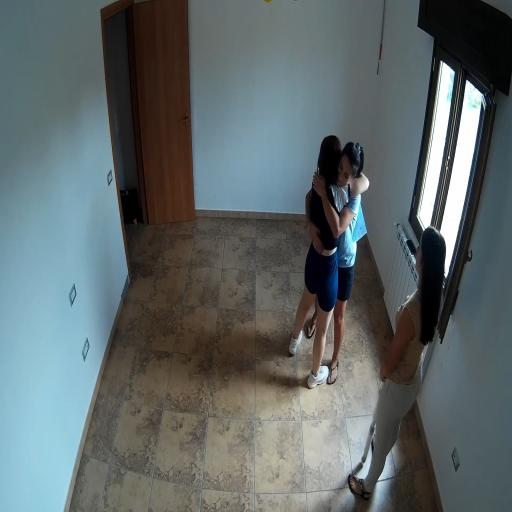nao-violencia: (271, 117, 376, 401)
